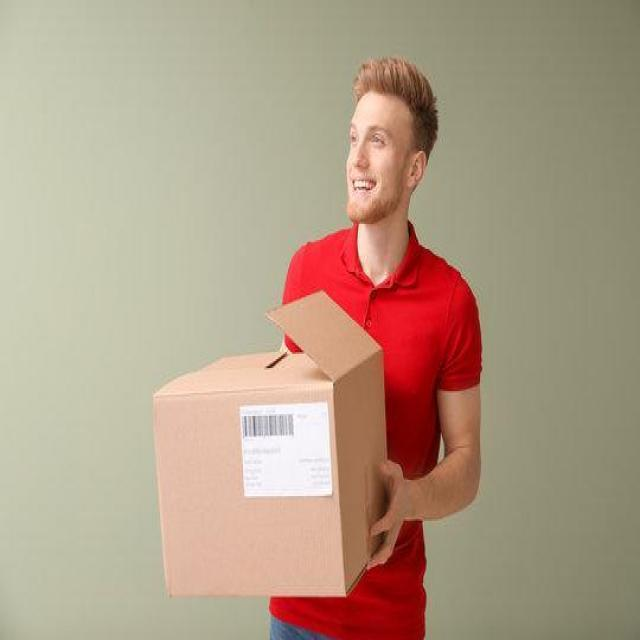box: (154, 291, 392, 596)
